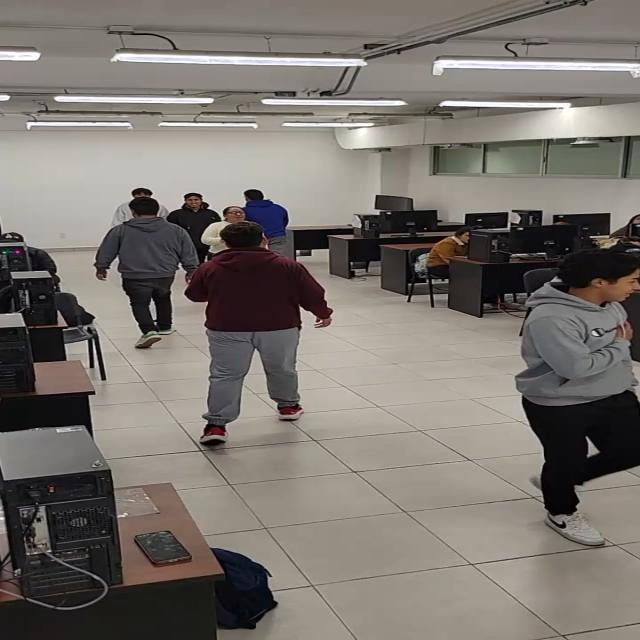Persona: (514, 240, 640, 564), (190, 224, 351, 446), (122, 195, 186, 334), (246, 186, 306, 252), (174, 190, 212, 240), (212, 203, 250, 249)
